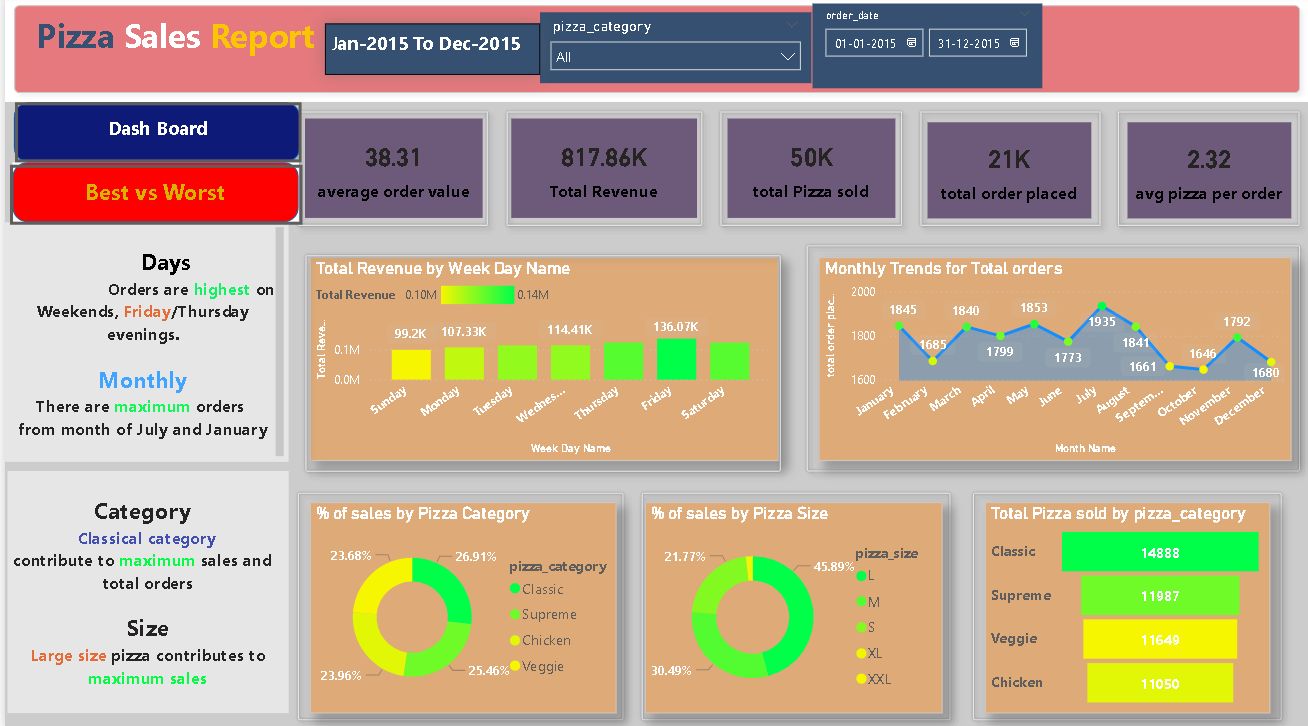

The dashboard page shown, as its layout file describes it:
{"tool":"powerbi","page":{"name":"Dash Board","canvas":[1280,720],"ordinal":0},"visuals":[{"type":"shape","box":[0,0,1280.3,104.3],"z":0},{"type":"textbox","box":[26.1,12.3,306,78.2],"z":1000},{"type":"shape","box":[278.6,104.3,204.5,130.4],"z":2000},{"type":"shape","box":[483,104.3,209.9,130.4],"z":3000},{"type":"shape","box":[693,104.3,196.2,130.4],"z":4000},{"type":"shape","box":[889.2,104.3,194.9,130.4],"z":5000},{"type":"shape","box":[1084.1,104.3,196.2,130.4],"z":6000},{"type":"card","fields":{"Values":["pizzasproject pizza_sales.aaverage order value"]},"box":[295,120.8,174.3,97.4],"z":7000},{"type":"card","fields":{"Values":["pizzasproject pizza_sales.Total Revenue"]},"box":[496.7,120.8,182.5,97.4],"z":8000},{"type":"card","fields":{"Values":["pizzasproject pizza_sales.total Pizza sold"]},"box":[709.4,120.8,164.7,97.4],"z":9000},{"type":"card","fields":{"Values":["pizzasproject pizza_sales.total order placed"]},"box":[905.7,123.5,160.5,94.7],"z":10000},{"type":"card","fields":{"Values":["pizzasproject pizza_sales.avg pizza per order"]},"box":[1101.9,123.5,160.5,94.7],"z":11000},{"type":"columnChart","fields":{"Y":["pizzasproject pizza_sales.Total Revenue"],"Category":["pizzasproject pizza_sales.Week Day Name"]},"box":[299.1,256.6,459.7,200.3],"z":12000},{"type":"shape","box":[285.9,245.4,484.7,230.7],"z":13000},{"type":"shape","box":[778,236,502.2,240.1],"z":14000},{"type":"areaChart","title":"Monthly Trends for Total orders","fields":{"Category":["pizzasproject pizza_sales.Month Name"],"Y":["pizzasproject pizza_sales.total order placed"]},"box":[798.6,256.6,463.8,200.3],"z":15000},{"type":"shape","box":[278.6,478.9,337.6,241.5],"z":16000},{"type":"shape","box":[616.1,478.9,321.1,241.5],"z":17000},{"type":"donutChart","title":"% of sales by Pizza Category","fields":{"Category":["pizzasproject pizza_sales.pizza_category"],"Y":["pizzasproject pizza_sales.Total Revenue"]},"box":[299.1,496.7,300.5,207.2],"z":18000},{"type":"shape","box":[941.3,478.9,321.1,241.5],"z":19000},{"type":"donutChart","title":"% of sales by Pizza Size","fields":{"Y":["pizzasproject pizza_sales.Total Revenue"],"Category":["pizzasproject pizza_sales.pizza_size"]},"box":[628.5,496.7,292.3,207.2],"z":20000},{"type":"funnel","title":"Total Pizza sold by pizza_category","fields":{"Category":["pizzasproject pizza_sales.pizza_category"],"Y":["pizzasproject pizza_sales.total Pizza sold"]},"box":[961.9,496.7,279.9,207.2],"z":21000},{"type":"textbox","box":[0,222.1,278.5,235.6],"z":22000},{"type":"textbox","box":[2.7,466.6,275.8,237.4],"z":23000},{"type":"slicer","fields":{"Values":["pizzasproject pizza_sales.pizza_category"]},"box":[525.2,16,266.3,69.9],"z":24000},{"type":"slicer","fields":{"Values":["pizzasproject pizza_sales.order_date"]},"box":[792.6,7.4,225.8,83.4],"z":25000},{"type":"shape","box":[7.4,163.2,281,58.9],"z":26000},{"type":"shape","box":[8.2,104.3,281.3,59],"z":27000},{"type":"textbox","box":[54.9,111.1,189.4,46.7],"z":28000},{"type":"textbox","box":[61.4,171.8,177.9,46.6],"z":29000},{"type":"actionButton","box":[9.6,104.3,281.3,59],"z":30000},{"type":"actionButton","box":[4.9,165.6,287.1,58.9],"z":31000},{"type":"textbox","box":[314.1,27,211,50.3],"z":32000}]}

Visuals, with their boxes in screenshot pixels (x1, y1, x2, y2), scaled from the page's 1280x720 canvas onto the 1308x726 screenshot:
shape: x1=0, y1=0, x2=1307, y2=105
textbox: x1=27, y1=12, x2=339, y2=91
shape: x1=285, y1=105, x2=494, y2=237
shape: x1=494, y1=105, x2=708, y2=237
shape: x1=708, y1=105, x2=909, y2=237
shape: x1=909, y1=105, x2=1108, y2=237
shape: x1=1108, y1=105, x2=1307, y2=237
card - pizzasproject pizza_sales.aaverage order value: x1=301, y1=122, x2=480, y2=220
card - pizzasproject pizza_sales.Total Revenue: x1=508, y1=122, x2=694, y2=220
card - pizzasproject pizza_sales.total Pizza sold: x1=725, y1=122, x2=893, y2=220
card - pizzasproject pizza_sales.total order placed: x1=926, y1=125, x2=1090, y2=220
card - pizzasproject pizza_sales.avg pizza per order: x1=1126, y1=125, x2=1290, y2=220
columnChart - pizzasproject pizza_sales.Total Revenue x pizzasproject pizza_sales.Week Day Name: x1=306, y1=259, x2=775, y2=461
shape: x1=292, y1=247, x2=787, y2=480
shape: x1=795, y1=238, x2=1307, y2=480
"Monthly Trends for Total orders" areaChart: x1=816, y1=259, x2=1290, y2=461
shape: x1=285, y1=483, x2=630, y2=725
shape: x1=630, y1=483, x2=958, y2=725
"% of sales by Pizza Category" donutChart: x1=306, y1=501, x2=613, y2=710
shape: x1=962, y1=483, x2=1290, y2=725
"% of sales by Pizza Size" donutChart: x1=642, y1=501, x2=941, y2=710
"Total Pizza sold by pizza_category" funnel: x1=983, y1=501, x2=1269, y2=710
textbox: x1=0, y1=224, x2=285, y2=462
textbox: x1=3, y1=470, x2=285, y2=710
slicer - pizzasproject pizza_sales.pizza_category: x1=537, y1=16, x2=809, y2=87
slicer - pizzasproject pizza_sales.order_date: x1=810, y1=7, x2=1041, y2=92
shape: x1=8, y1=165, x2=295, y2=224
shape: x1=8, y1=105, x2=296, y2=165
textbox: x1=56, y1=112, x2=250, y2=159
textbox: x1=63, y1=173, x2=245, y2=220
actionButton: x1=10, y1=105, x2=297, y2=165
actionButton: x1=5, y1=167, x2=298, y2=226
textbox: x1=321, y1=27, x2=537, y2=78
